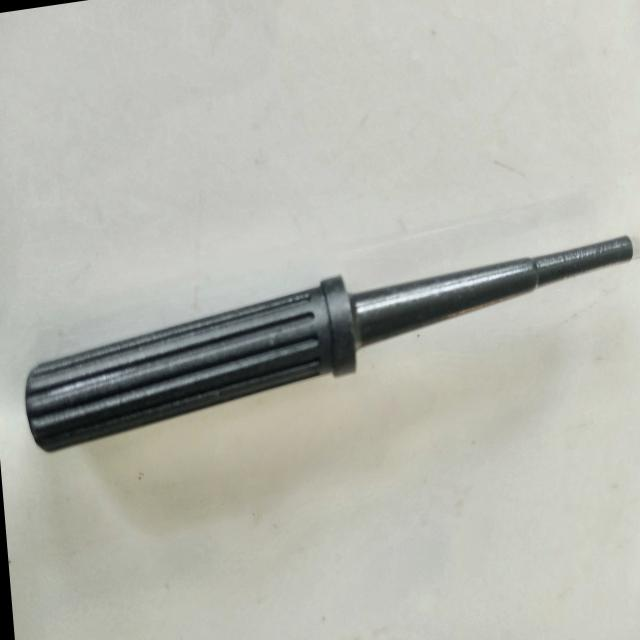Screw Driver: (5, 209, 640, 469)
